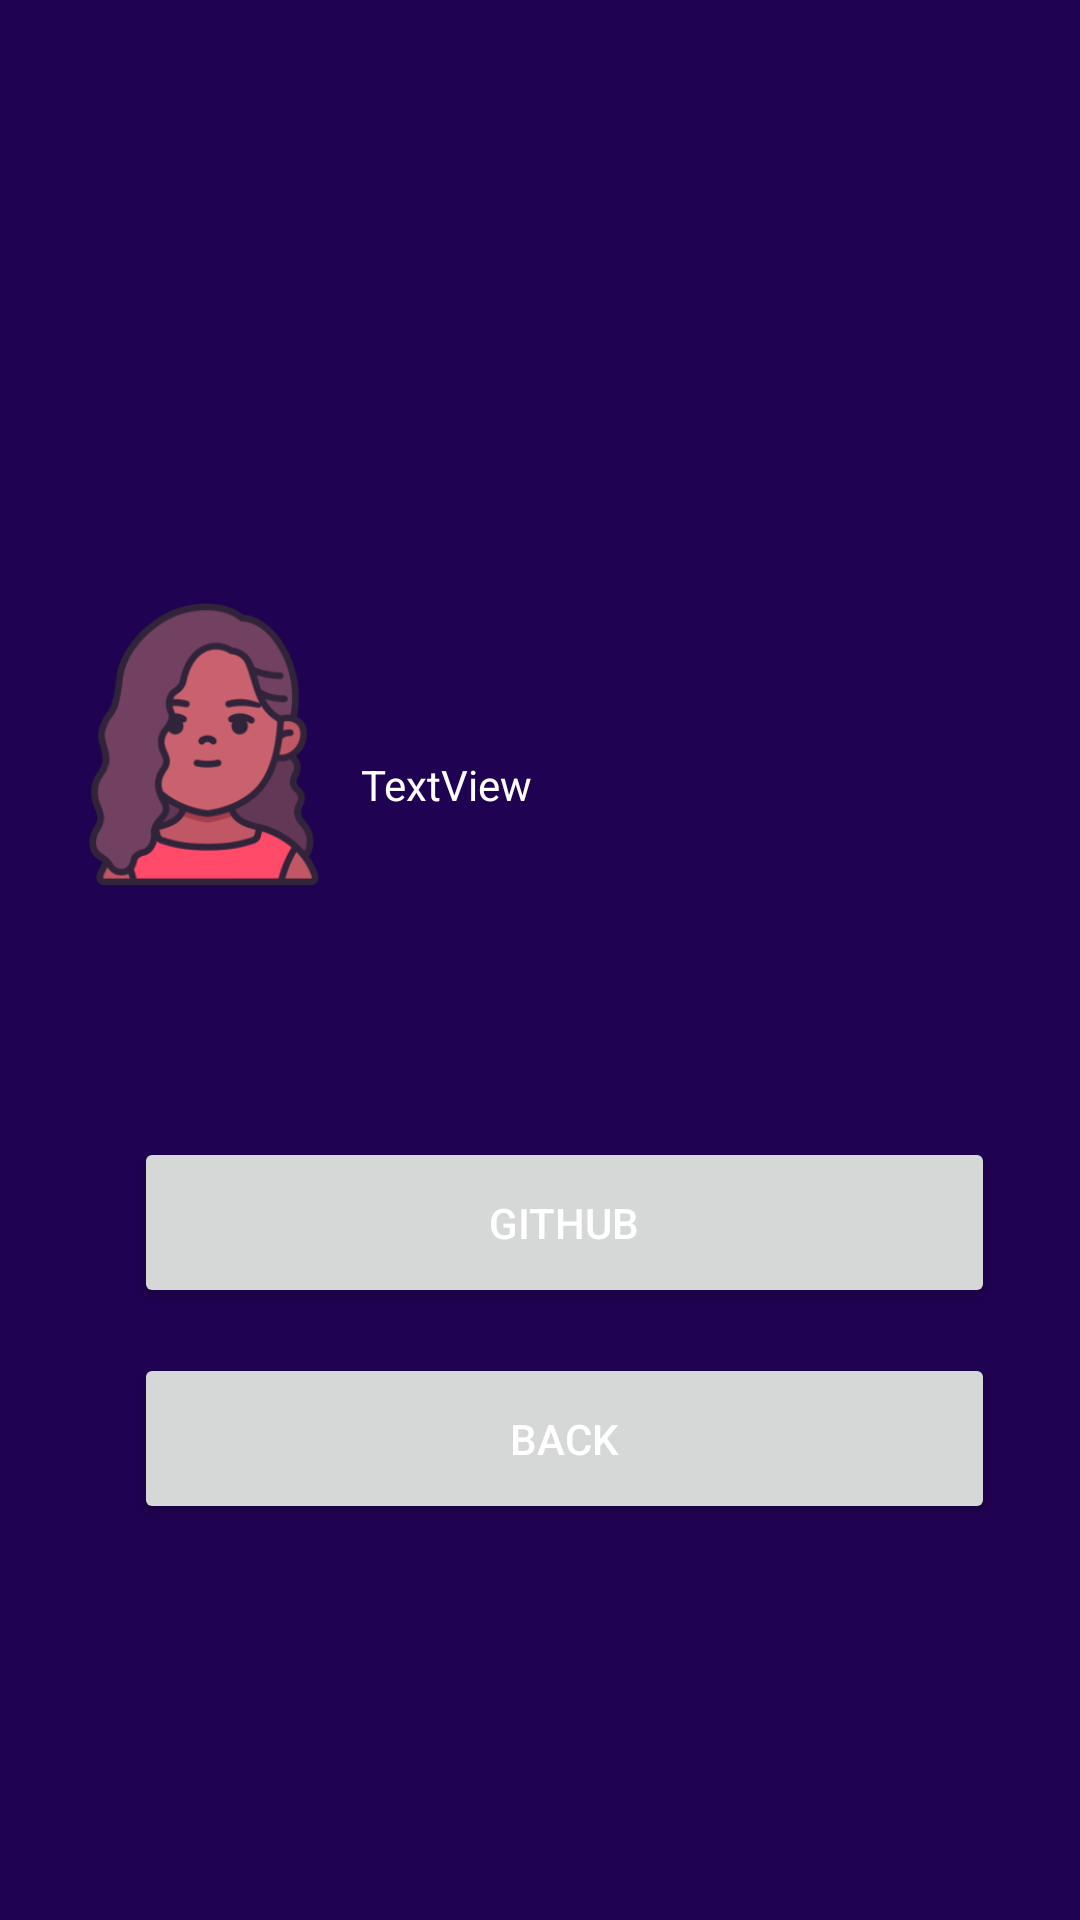

Point at icon controls on the screen. Image size 1080*1920, points as (x,y).
about dev: (204,744)
